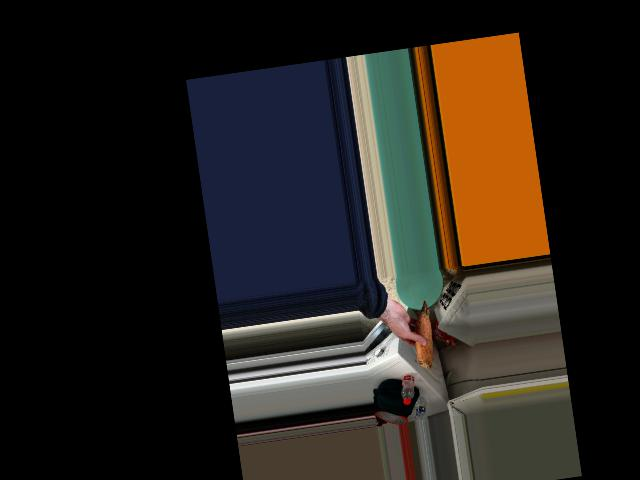sweet_potato: (405, 300, 441, 373)
